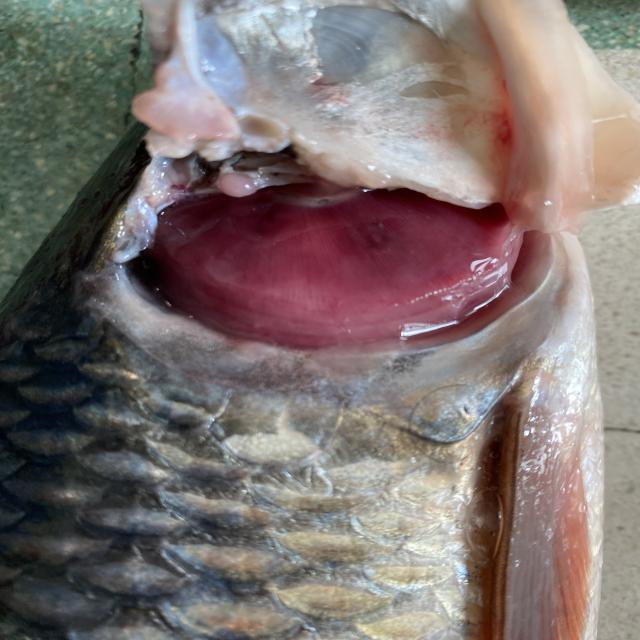Fresh: (83, 119, 611, 397)
